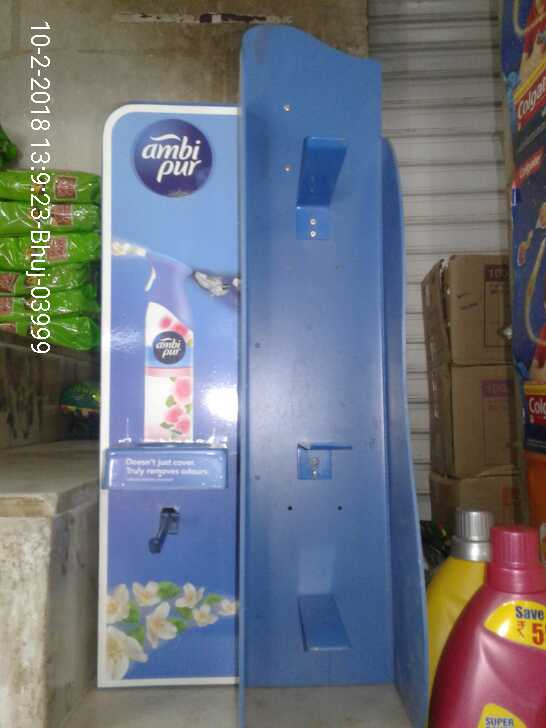reject: (238, 359, 312, 435)
